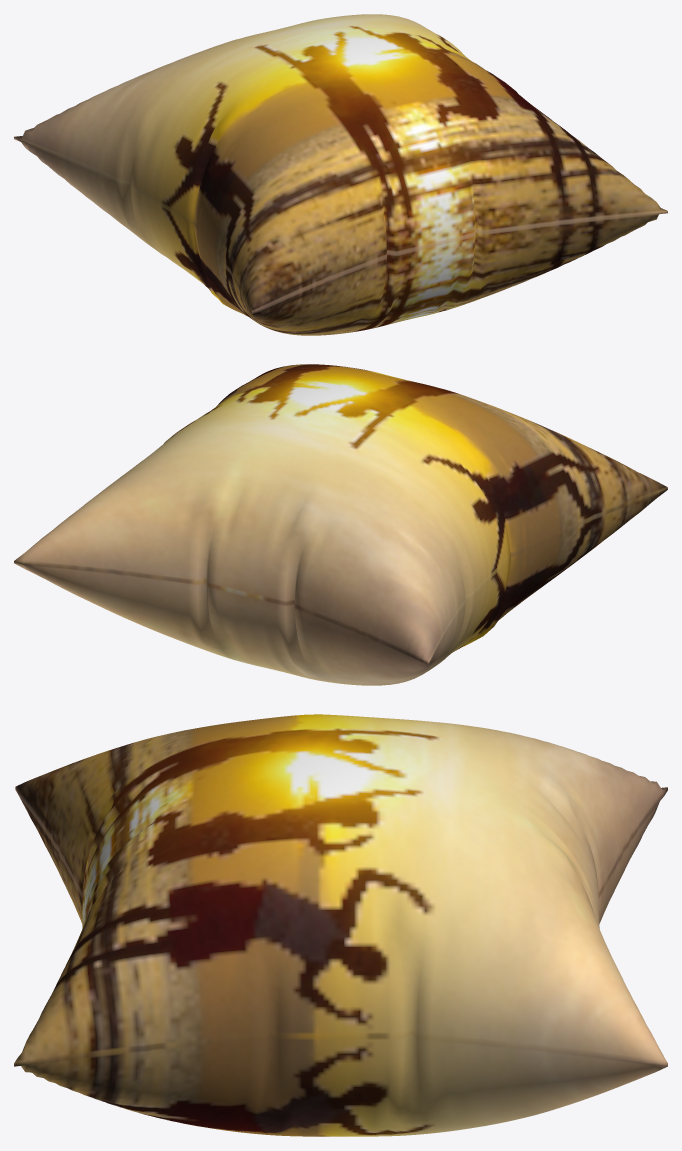
File: cussion.glb
The picture shows the model from 3 angles, top to bottom: view 1: azimuth 30°, elevation 25°; view 2: azimuth 150°, elevation 25°; view 3: azimuth 270°, elevation 25°; orthographic projection. The views are drawn at different scales.
Visible parts, largest first — view 1: cussion; view 2: cussion; view 3: cussion.
Boxes of the visible parts, left/top/right/bottom form: cussion: left=14, top=14, right=667, bottom=335; cussion: left=14, top=364, right=667, bottom=685; cussion: left=14, top=714, right=667, bottom=1136.
Size of the model in its own units: 1.87 by 1.07 by 1.87.
Materials: 1 (1 with a texture image).
